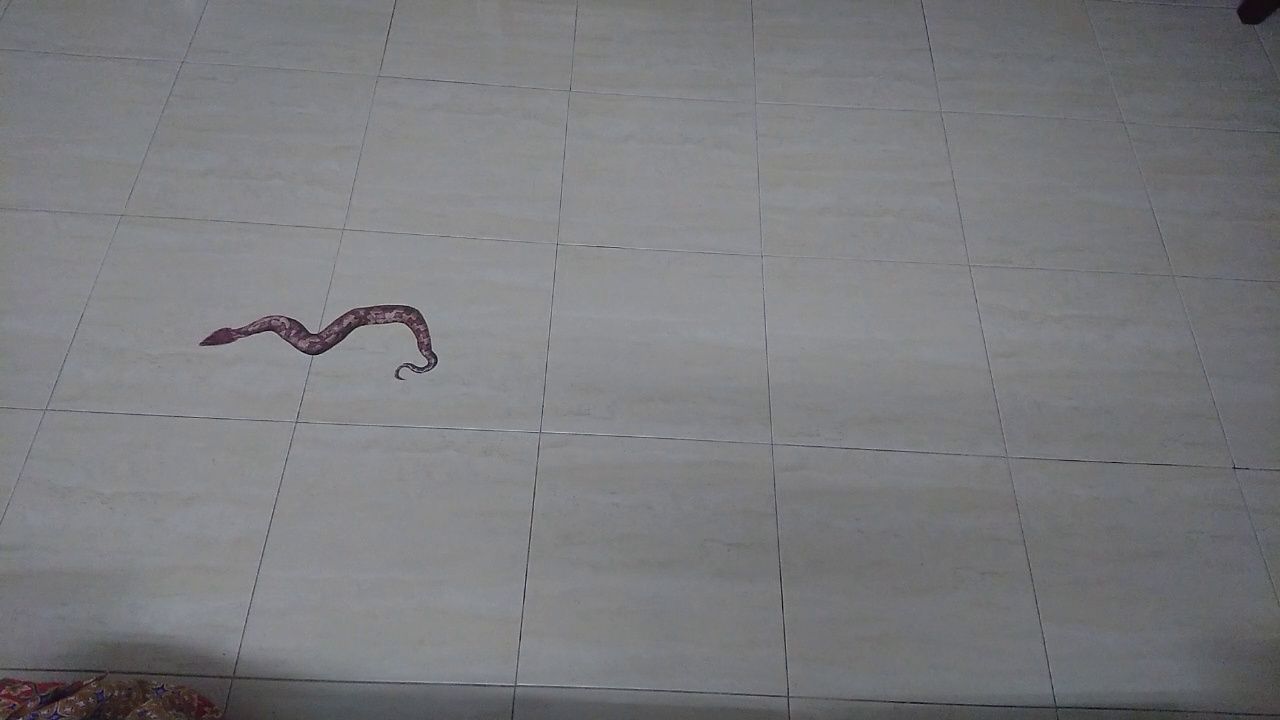snake: (181, 281, 452, 396)
